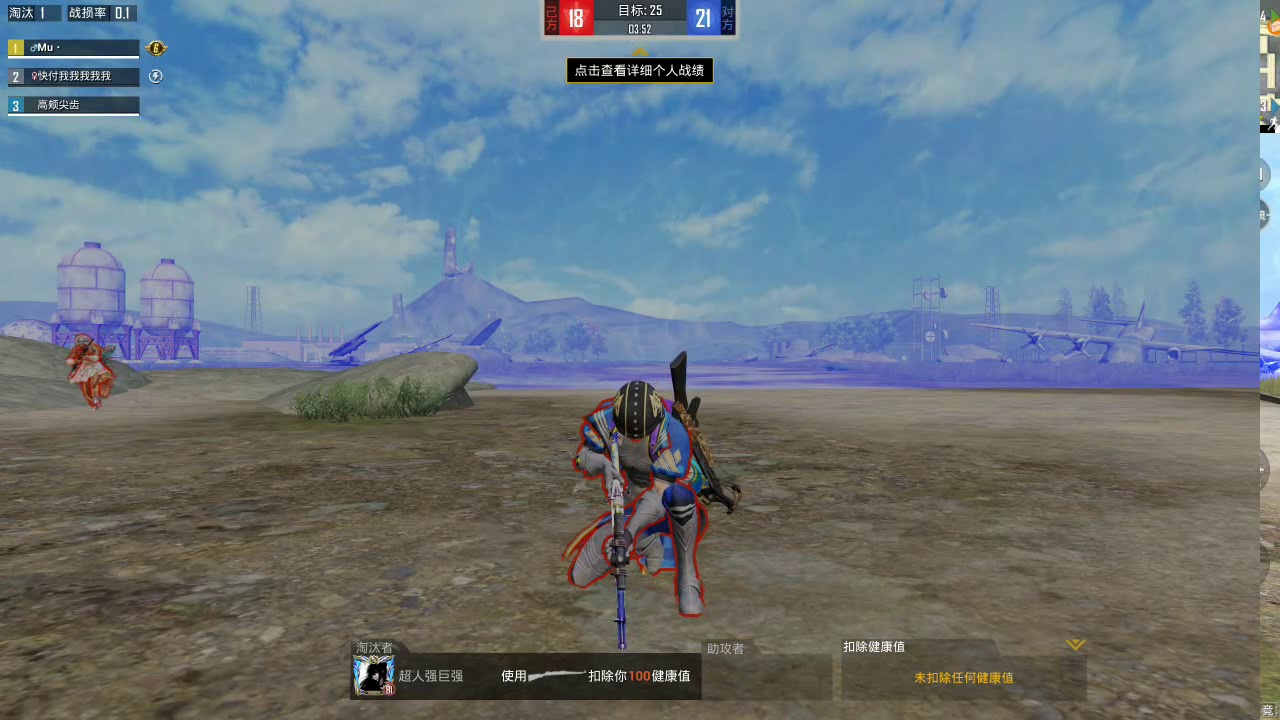enemy: (564, 381, 701, 626), (64, 332, 116, 407)
